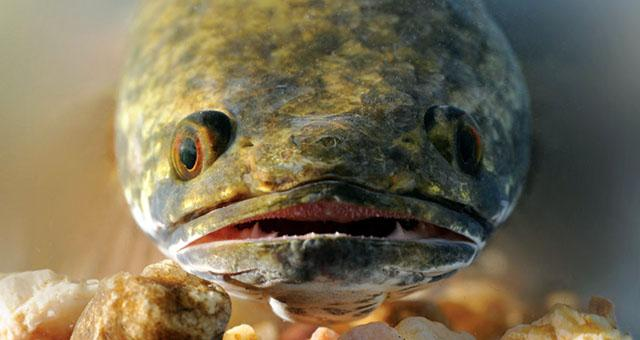Mulut: (115, 159, 525, 325)
